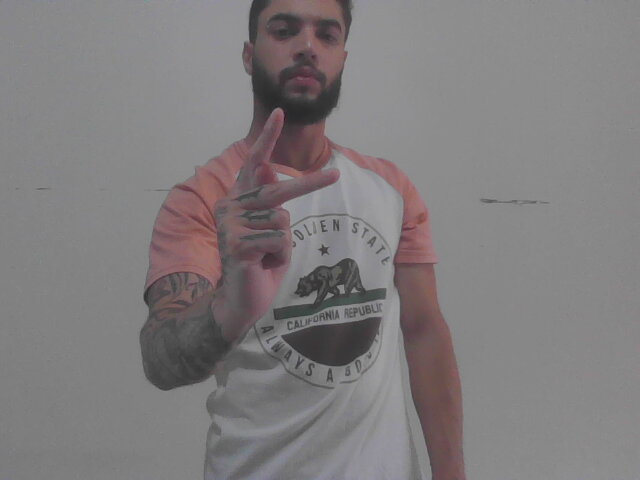h: (207, 103, 342, 329)
